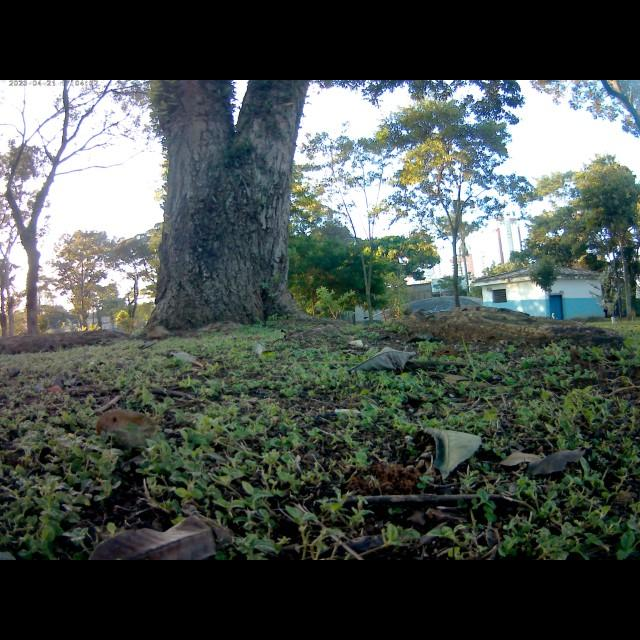arvore: (127, 80, 313, 335)
